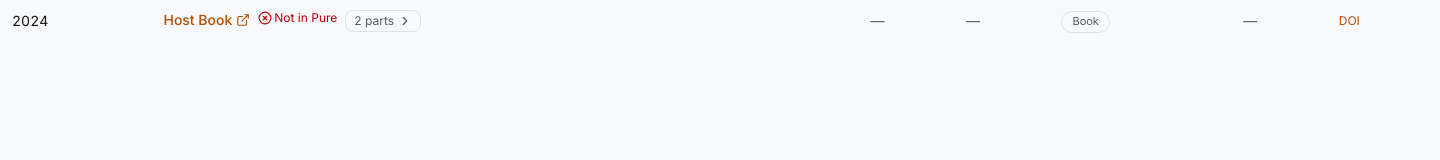
Test case: <GapEntryTableRows> › renders a group as a parent row and reveals part rows on toggle
Check: the number of rows is 1, box [0, 0, 1439, 43]
Check: the link "Host Book" is shown, box [164, 10, 250, 30]
What coordinates should you click on to do the following:
click the button "2 parts"
I would click on:
 (383, 21)
Its box is [345, 10, 421, 32].
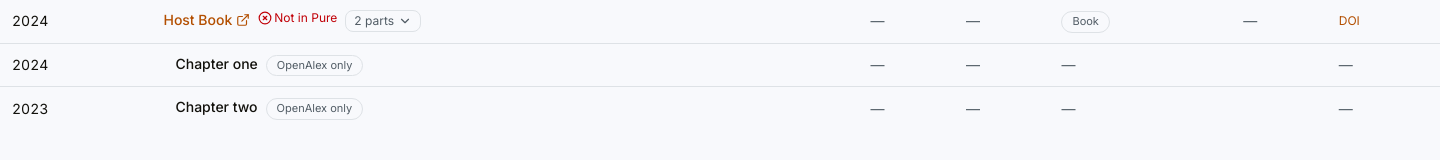
Check: the number of rows is 3, box [0, 0, 1439, 43]; [0, 43, 1439, 87]; [0, 87, 1439, 130]
Check: the row "2024 Chapter one OpenAlex only — — — —" is shown, box [0, 43, 1439, 87]
Check: the row "2023 Chapter two OpenAlex only — — — —" is shown, box [0, 87, 1439, 130]
